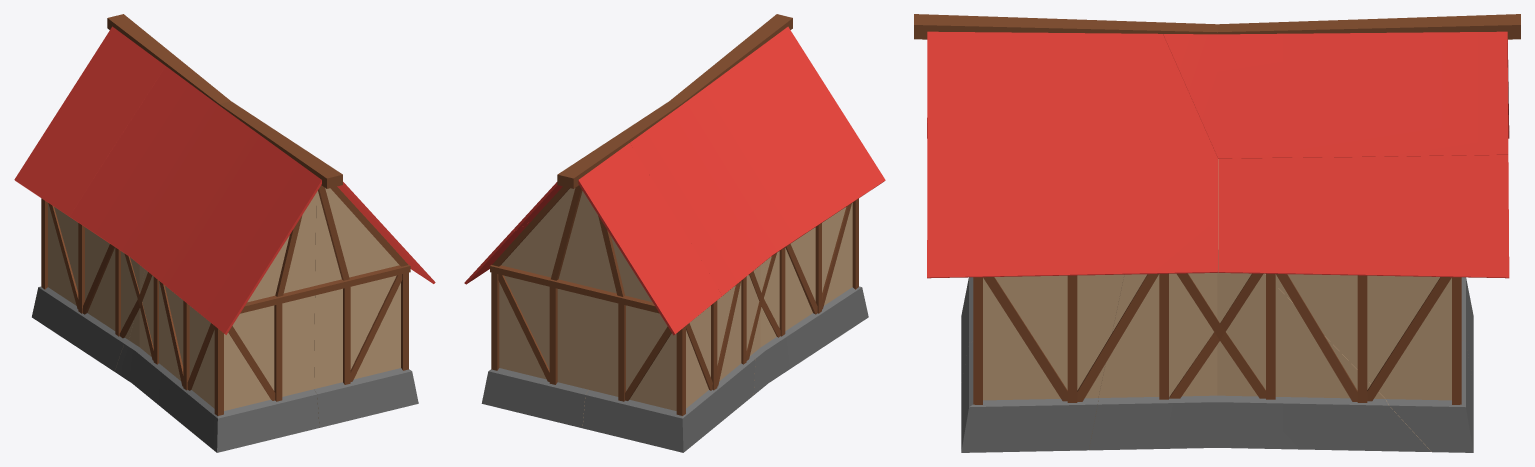
The model's file is Building_002_Broke.fbx.
3 views of the same model, side by side, from view 1: azimuth 30°, elevation 25°; view 2: azimuth 150°, elevation 25°; view 3: azimuth 270°, elevation 25° (orthographic). The views are drawn at different scales.
Parts seen in each view (by area): view 1: Building.002_0.021_cell.001, Building.002_0_cell.004, Building.002_0_cell.003, Building.002_0.021_cell.002, Building.002_0_cell.001, Building.002_0.008, Building.002_0.009, Building.002_0.024, Building.002_0.020, Building.002_0.023, Building.002_0.017, Building.002_0.014 (+7 smaller); view 2: Building.002_0.021_cell.001, Building.002_0_cell.001, Building.002_0_cell, Building.002_0.021_cell.002, Building.002_0_cell.004, Building.002_0.001, Building.002_0.002, Building.002_0.020, Building.002_0.024, Building.002_0.015, Building.002_0.016, Building.002_0.010 (+8 smaller); view 3: Building.002_0.022_cell.001, Building.002_0.022_cell, Building.002_0_cell.002, Building.002_0.022_cell.002, Building.002_0_cell.003, Building.002_0_cell, Building.002_0.020, Building.002_0.024, Building.002_0.003, Building.002_0.004, Building.002_0.007, Building.002_0.005 (+5 smaller).
Part boxes in pixels (x1=…): Building.002_0.021_cell.001: x1=70, y1=66, x2=321, y2=334; Building.002_0_cell.004: x1=114, y1=193, x2=319, y2=452; Building.002_0_cell.003: x1=314, y1=188, x2=418, y2=427; Building.002_0.021_cell.002: x1=14, y1=26, x2=165, y2=217; Building.002_0_cell.001: x1=32, y1=203, x2=144, y2=371; Building.002_0.008: x1=343, y1=272, x2=408, y2=384; Building.002_0.009: x1=214, y1=303, x2=282, y2=415; Building.002_0.024: x1=107, y1=14, x2=230, y2=104; Building.002_0.020: x1=219, y1=101, x2=342, y2=188; Building.002_0.023: x1=240, y1=264, x2=410, y2=313; Building.002_0.017: x1=275, y1=185, x2=349, y2=296; Building.002_0.014: x1=48, y1=203, x2=84, y2=313; Building.002_0.021_cell.001: x1=630, y1=26, x2=885, y2=296; Building.002_0_cell.001: x1=582, y1=201, x2=766, y2=452; Building.002_0_cell: x1=481, y1=188, x2=588, y2=428; Building.002_0.021_cell.002: x1=578, y1=143, x2=722, y2=335; Building.002_0_cell.004: x1=751, y1=203, x2=868, y2=394; Building.002_0.001: x1=491, y1=272, x2=557, y2=384; Building.002_0.002: x1=618, y1=303, x2=685, y2=415; Building.002_0.020: x1=669, y1=14, x2=792, y2=105; Building.002_0.024: x1=557, y1=101, x2=680, y2=188; Building.002_0.015: x1=490, y1=265, x2=659, y2=313; Building.002_0.016: x1=551, y1=185, x2=624, y2=296; Building.002_0.010: x1=815, y1=203, x2=851, y2=313; Building.002_0.022_cell.001: x1=927, y1=31, x2=1217, y2=278; Building.002_0.022_cell: x1=1163, y1=31, x2=1508, y2=158; Building.002_0_cell.002: x1=1089, y1=217, x2=1431, y2=451; Building.002_0.022_cell.002: x1=1218, y1=155, x2=1509, y2=278; Building.002_0_cell.003: x1=961, y1=274, x2=1124, y2=452; Building.002_0_cell: x1=1218, y1=159, x2=1473, y2=452; Building.002_0.020: x1=914, y1=14, x2=1217, y2=39; Building.002_0.024: x1=1217, y1=14, x2=1520, y2=39; Building.002_0.003: x1=1169, y1=273, x2=1265, y2=398; Building.002_0.004: x1=1357, y1=275, x2=1451, y2=402; Building.002_0.007: x1=983, y1=275, x2=1077, y2=402; Building.002_0.005: x1=1266, y1=273, x2=1357, y2=401.
Size of the model in its own units: 3.27 by 3.91 by 5.88.
